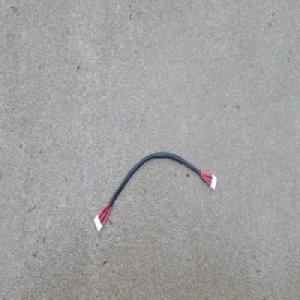Wire: (92, 150, 218, 234)
